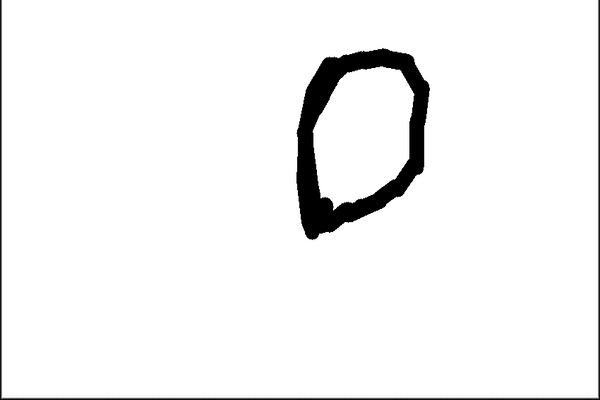D: (285, 39, 441, 247)
